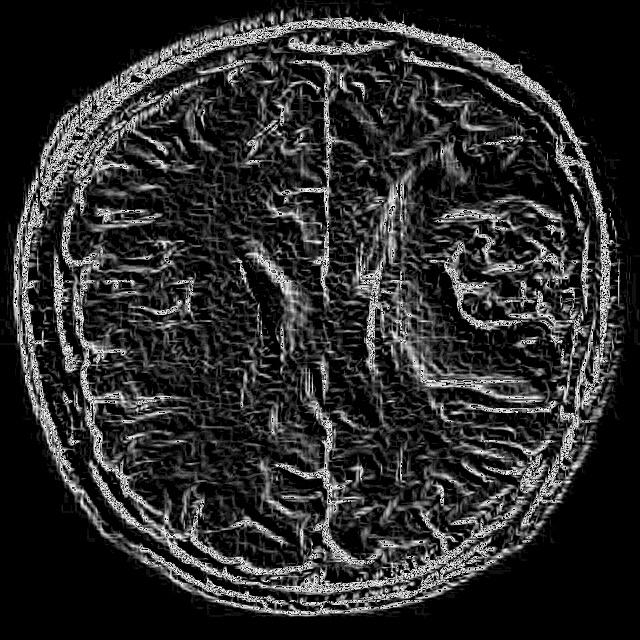Brain-Tumor: (378, 129, 600, 398)
